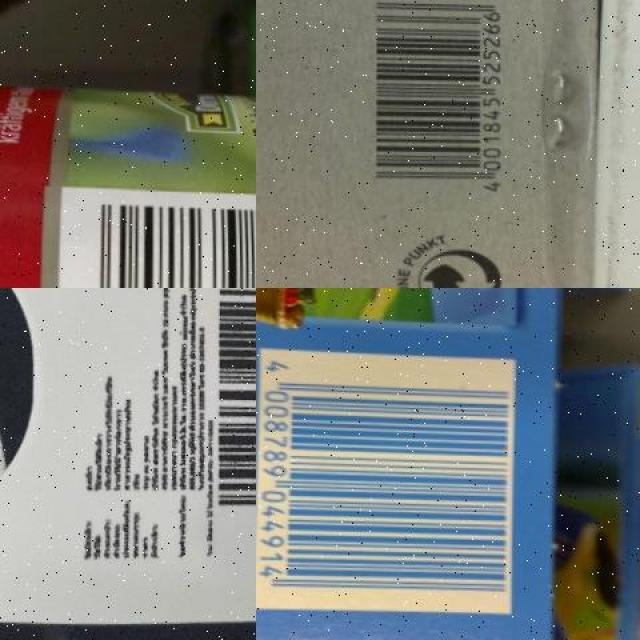Barcode: (256, 348, 517, 612), (362, 0, 518, 203), (59, 185, 256, 288), (213, 288, 256, 517)
